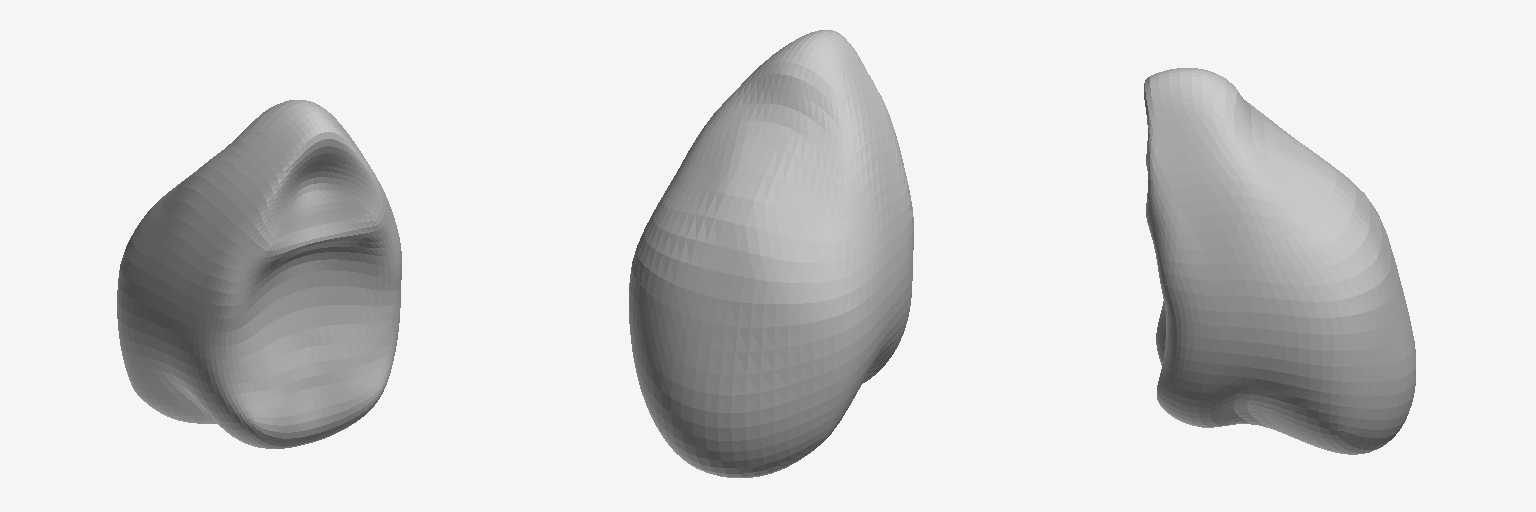
Rendered from vertabrae8.obj.
3 renders of one model, left to right at view 1: azimuth 30°, elevation 25°; view 2: azimuth 150°, elevation 25°; view 3: azimuth 270°, elevation 25°, orthographic.
Parts seen in each view (by area): view 1: Cube.102_Cube.104; view 2: Cube.102_Cube.104; view 3: Cube.102_Cube.104.
Boxes of the visible parts, x1=… form: Cube.102_Cube.104: x1=117, y1=100, x2=401, y2=448; Cube.102_Cube.104: x1=629, y1=30, x2=913, y2=477; Cube.102_Cube.104: x1=1144, y1=68, x2=1415, y2=454.
Bounding box in the file's own units: 0.0753 × 0.1171 × 0.0782.